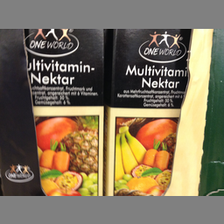juice: (106, 29, 191, 195), (24, 29, 106, 195)
